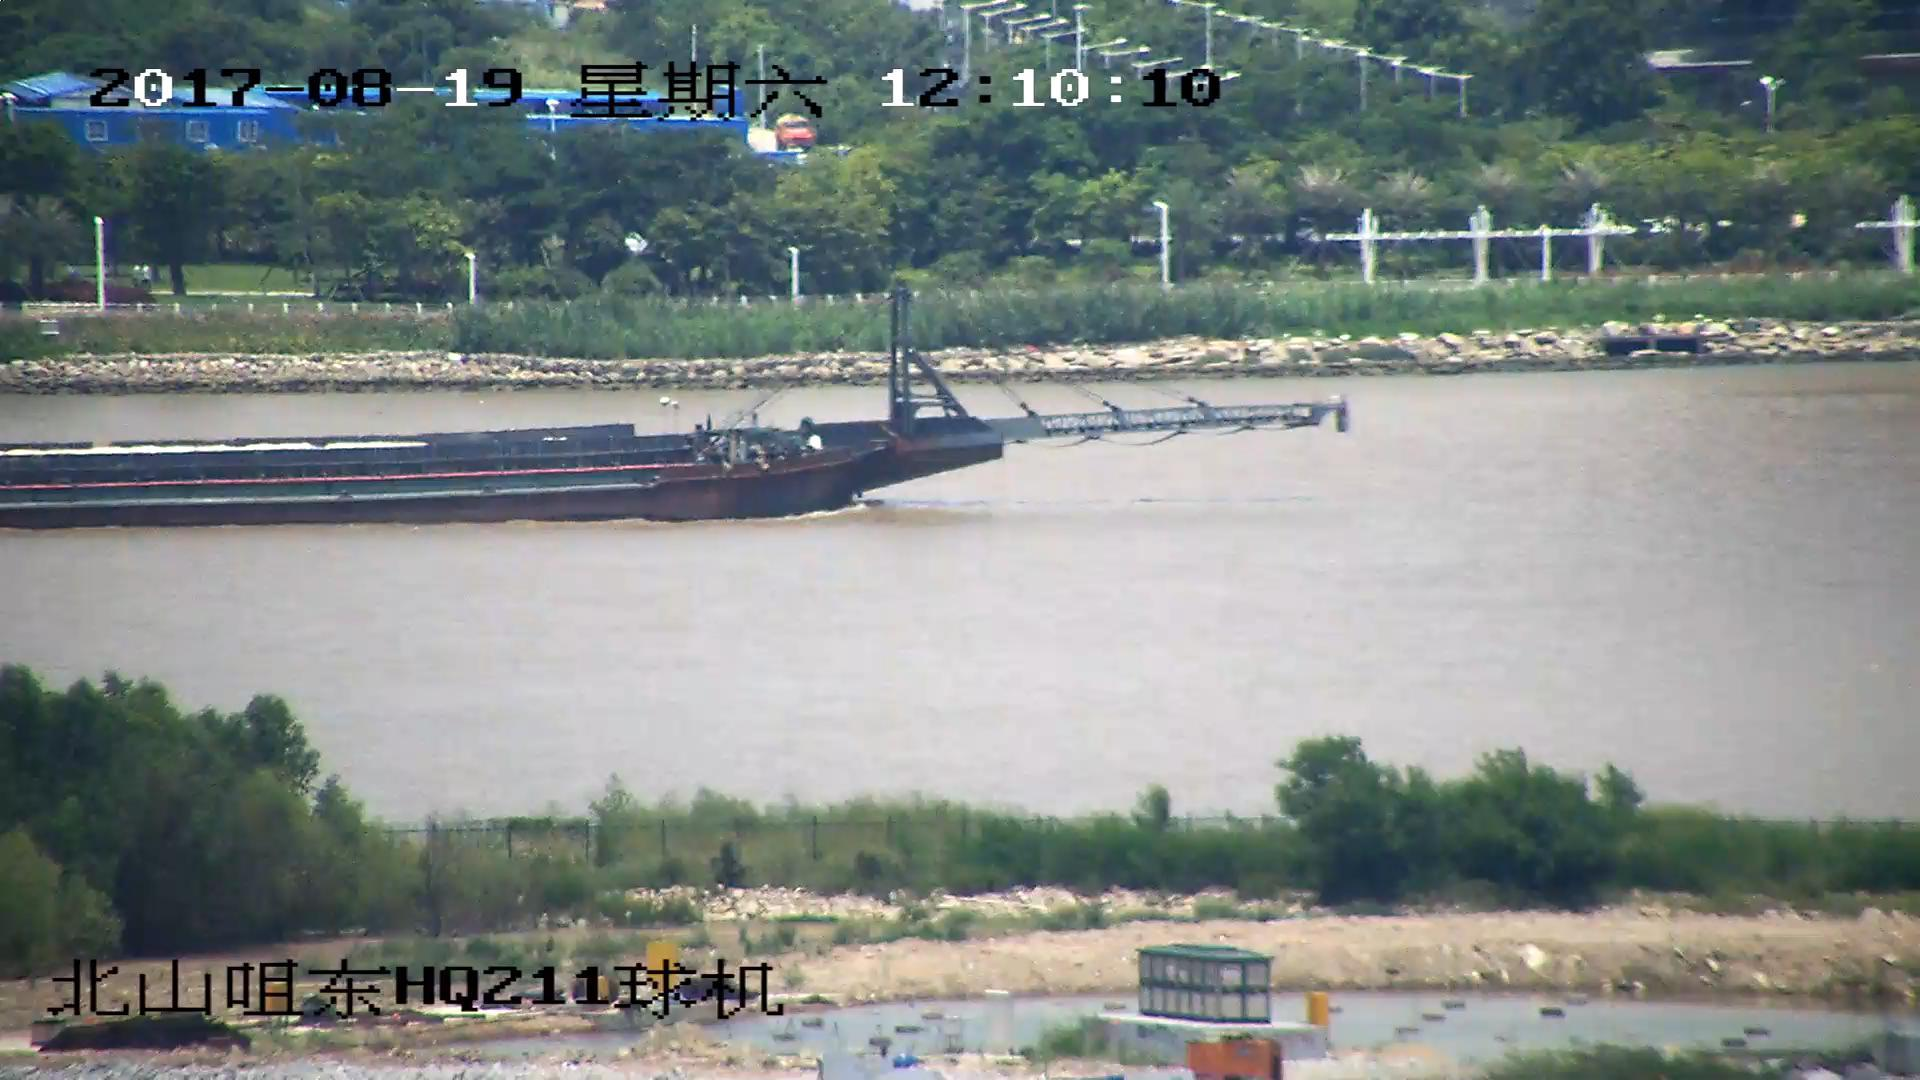Ship: (3, 286, 1341, 533)
